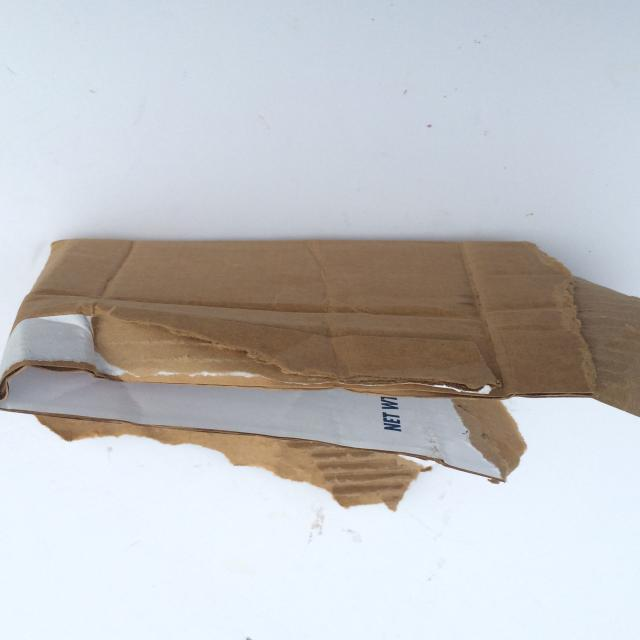cardboard: (1, 236, 638, 483)
